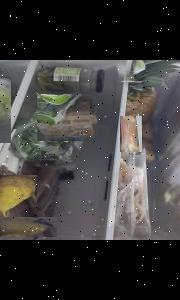Lechuga/Endivia: (0, 76, 34, 143)
